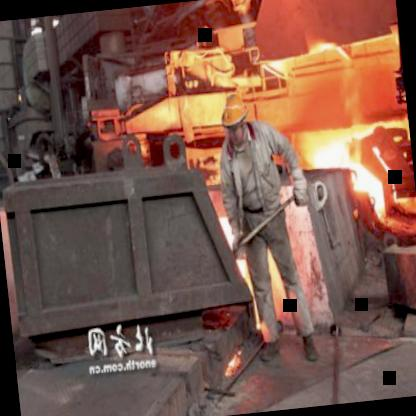helmet: (217, 90, 255, 148)
